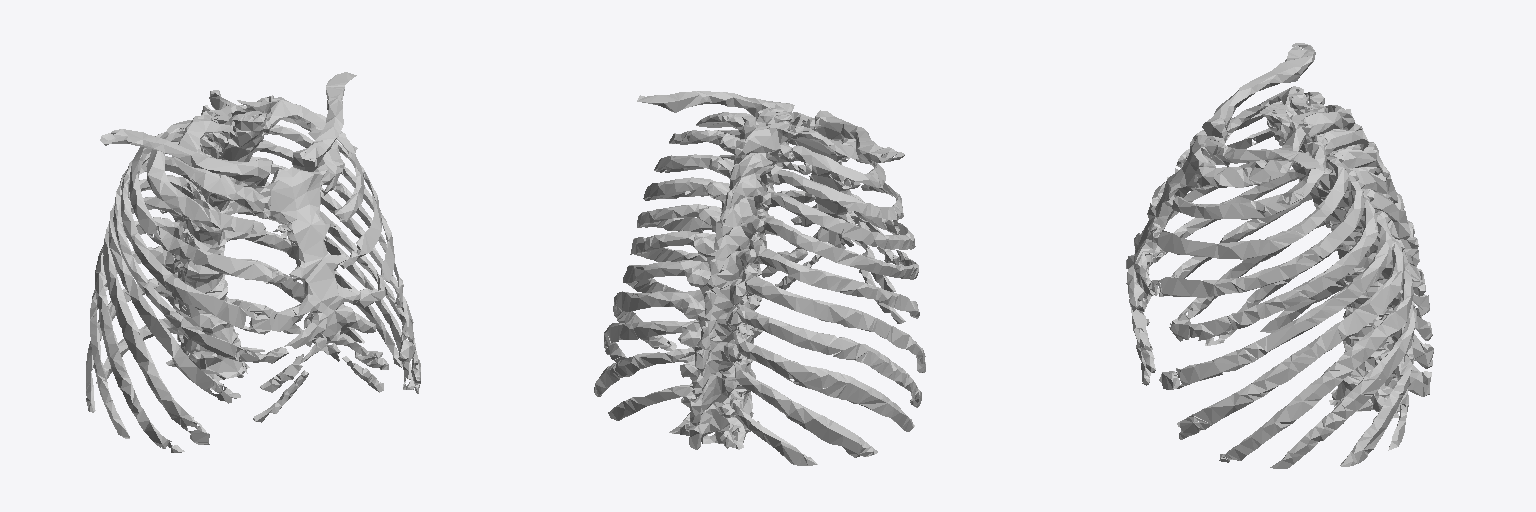
3 views of the same model, side by side, from view 1: azimuth 30°, elevation 25°; view 2: azimuth 150°, elevation 25°; view 3: azimuth 270°, elevation 25° (orthographic).
Parts seen in each view (by area): view 1: Polygonal_Model_5_Triangles_0; view 2: Polygonal_Model_5_Triangles_0; view 3: Polygonal_Model_5_Triangles_0.
Boxes of the visible parts, box(x1,y1,x2,y2) form: Polygonal_Model_5_Triangles_0: box(86, 72, 420, 452); Polygonal_Model_5_Triangles_0: box(594, 91, 925, 465); Polygonal_Model_5_Triangles_0: box(1126, 43, 1433, 468).
Size of the model in its own units: 10.9 by 10.3 by 10.02.